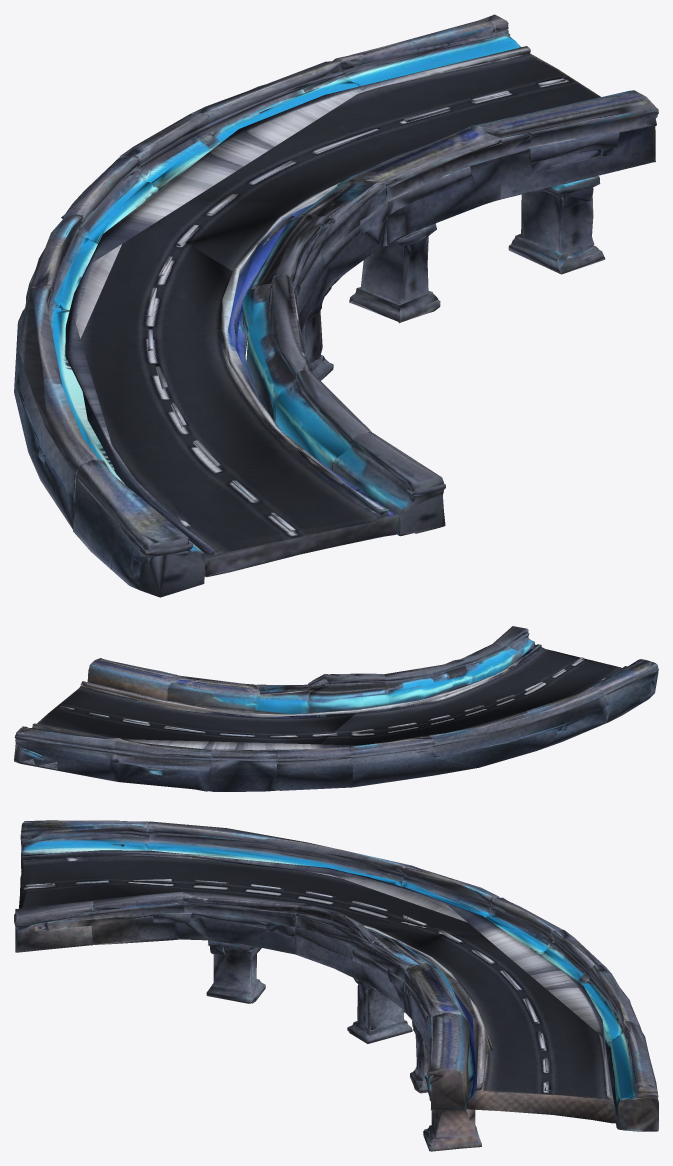
3 renders of one model, top to bottom at view 1: azimuth 30°, elevation 25°; view 2: azimuth 150°, elevation 25°; view 3: azimuth 270°, elevation 25°, orthographic. The views are drawn at different scales.
Size of the model in its own units: 0.9556 by 0.187 by 0.9493.
Materials: 1 (1 with a texture image).
